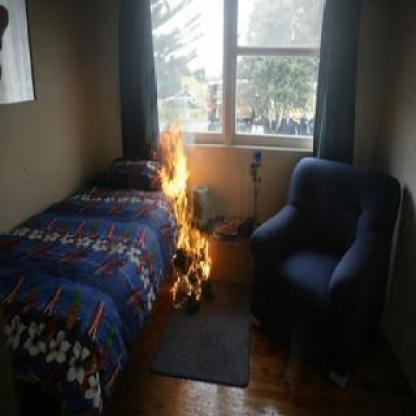Fire: (157, 122, 213, 300)
